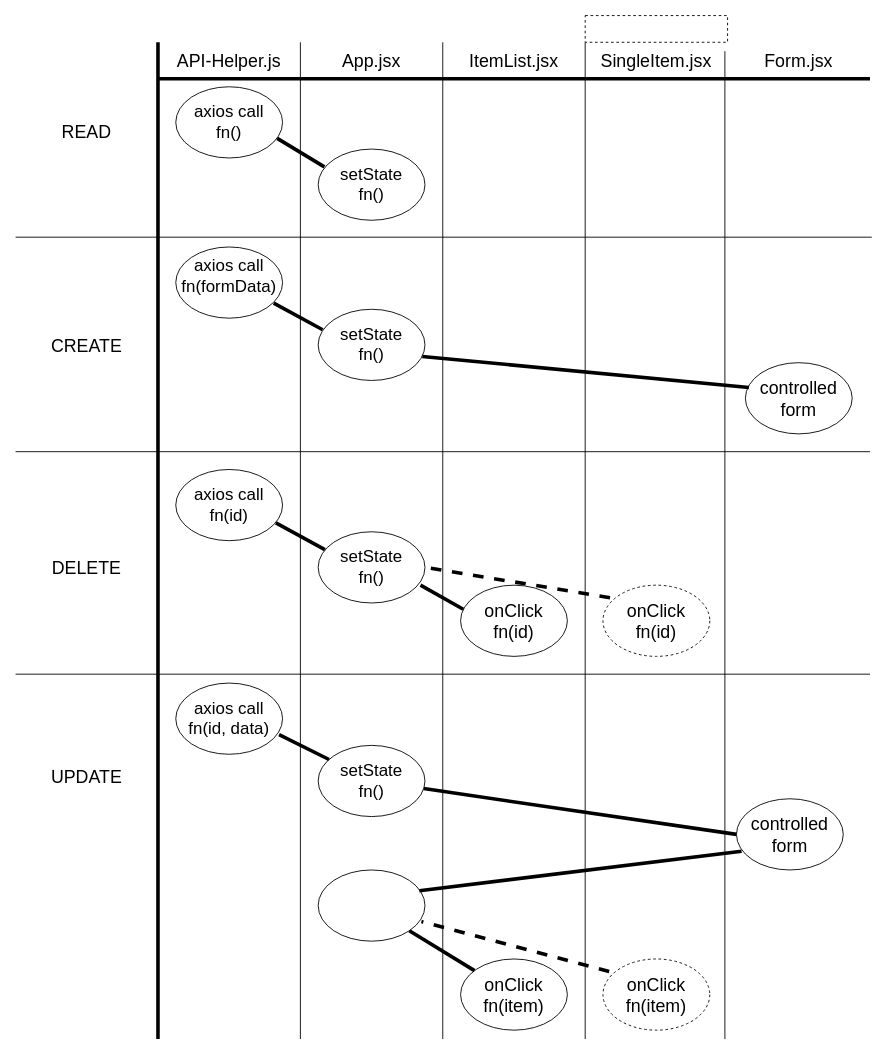
Image size: 888x1057. Some labels were removed from this diagram. The box of each missing label's shape, as (x1, y1, x2, y2) in pixels:
(optional): (584, 15, 728, 42)
setFormData fn(): (317, 869, 425, 941)
